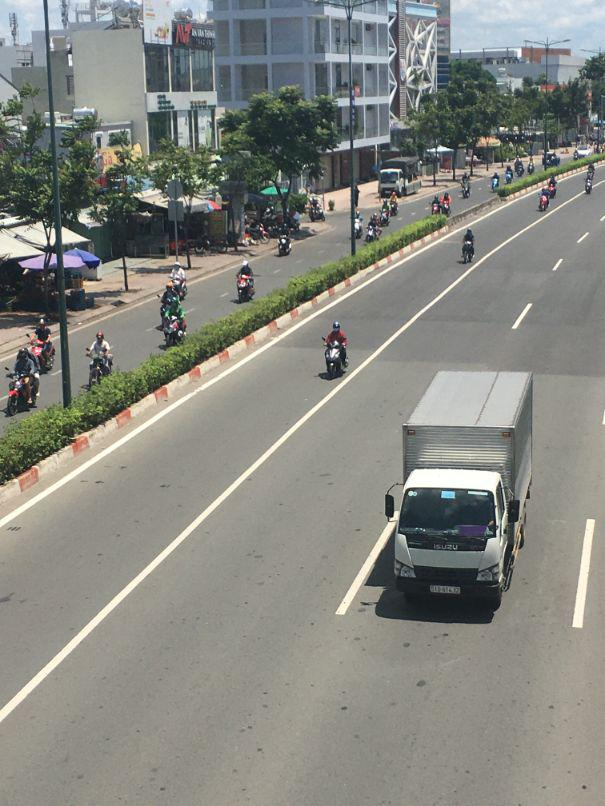motorbike: (6, 367, 40, 417), (160, 306, 188, 348), (87, 348, 113, 386), (324, 339, 348, 378), (237, 268, 256, 303), (461, 232, 475, 263), (279, 236, 292, 257), (539, 194, 549, 212)
truck: (393, 370, 534, 606)
